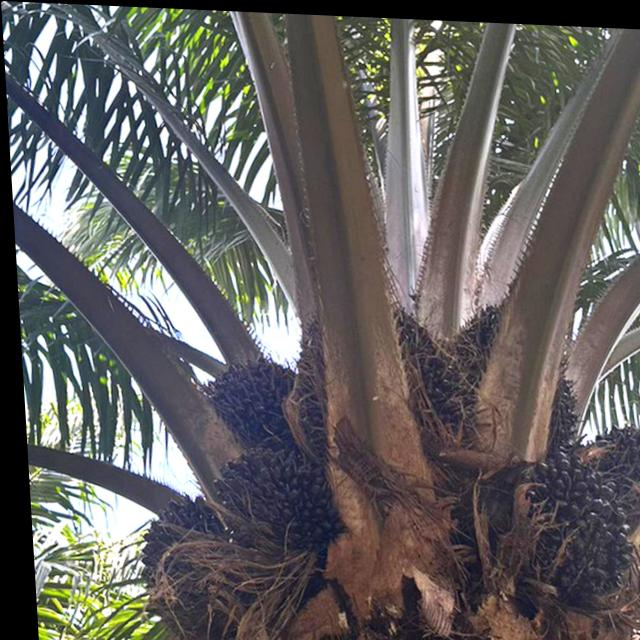unripe: (274, 291, 474, 472), (190, 347, 311, 453)
